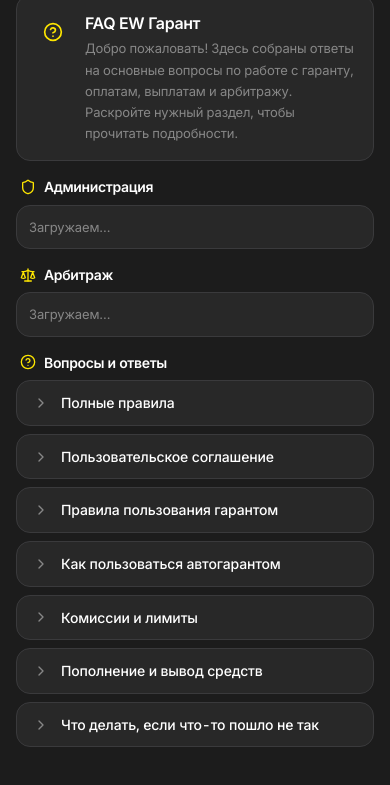
it: <HelpPage /> › collapses the previously expanded section when another row is opened
Click the button "Полные правила". click: (118, 403)
box: [17,381,373,425]
(page scrolled)
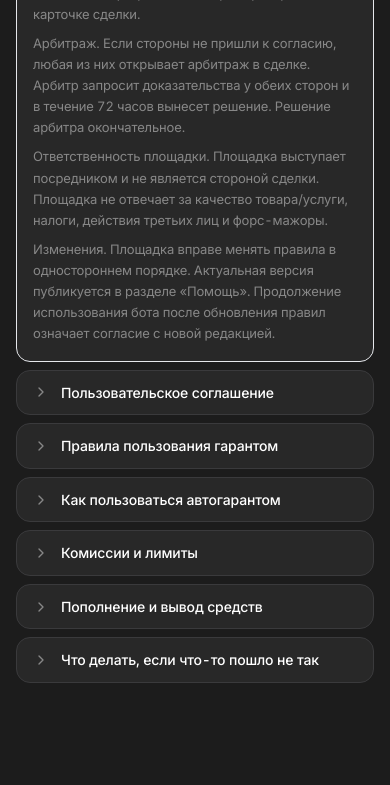
Click the button "Пользовательское соглашение". click: (195, 392)
box: [17,370,373,414]
(page scrolled)
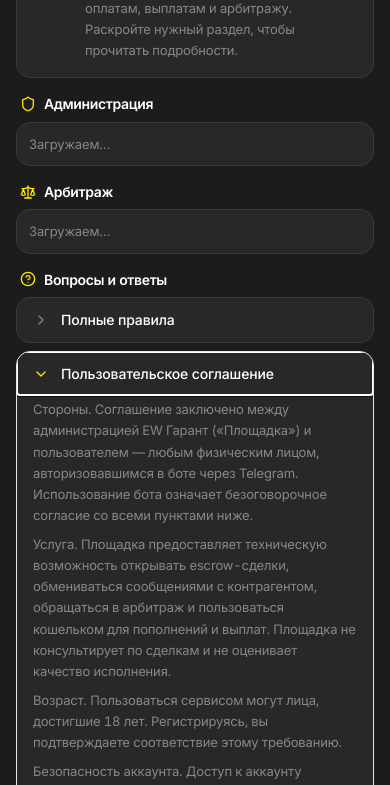
Expected: the button "Полные правила" is collapsed, [17,298,373,342]
Expected: the button "Пользовательское соглашение" is expanded, [17,352,373,395]
